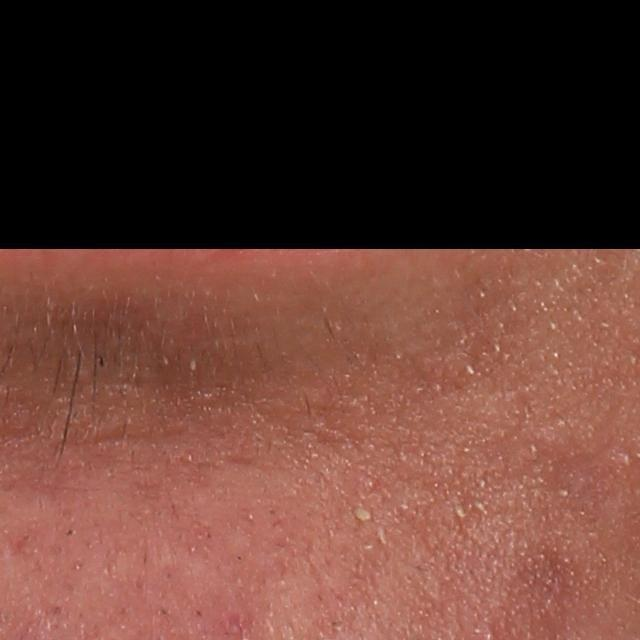other: (351, 505, 374, 524)
